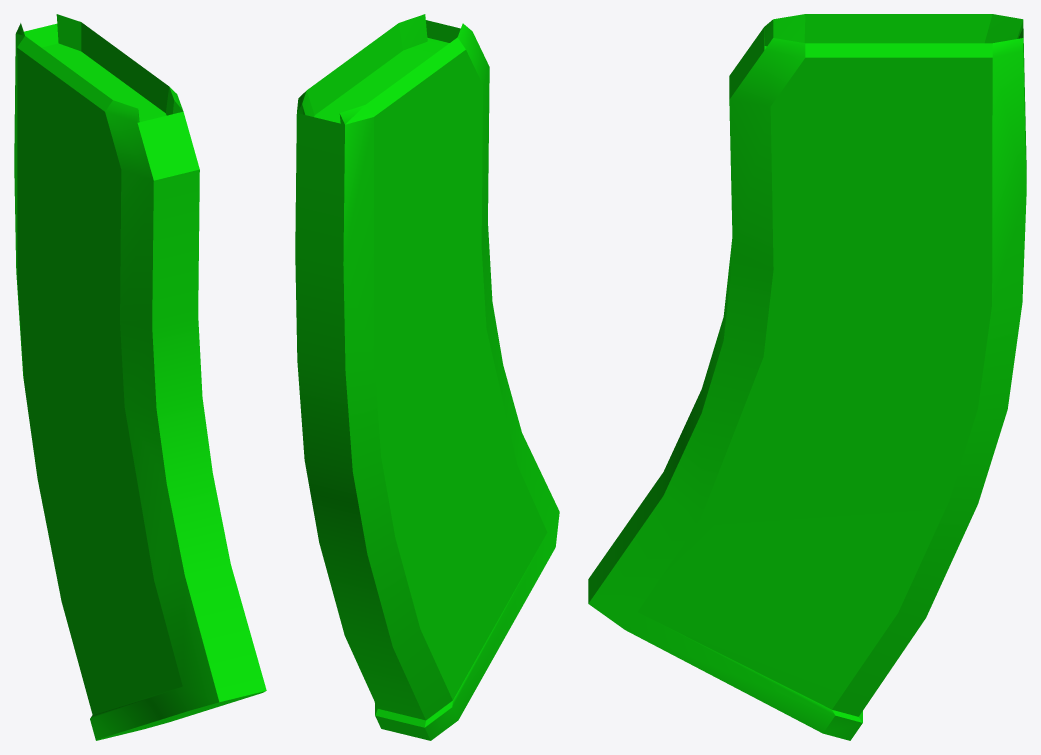
File: SM_MAGQBZ95.fbx
3 renders of one model, left to right at view 1: azimuth 30°, elevation 25°; view 2: azimuth 150°, elevation 25°; view 3: azimuth 270°, elevation 25°, orthographic. The views are drawn at different scales.
Parts seen in each view (by area): view 1: Body.001; view 2: Body.001; view 3: Body.001.
Part boxes in pixels (bbox=[...]): Body.001: bbox=[14, 14, 266, 740]; Body.001: bbox=[295, 14, 559, 740]; Body.001: bbox=[588, 14, 1026, 740].
Size of the model in its own units: 2.41 by 20.36 by 11.56.
